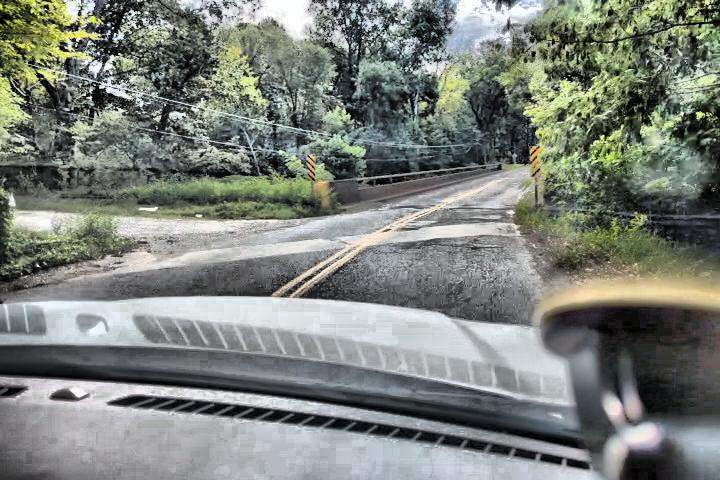pothole: (381, 221, 421, 236), (393, 203, 421, 211), (467, 243, 487, 253)
